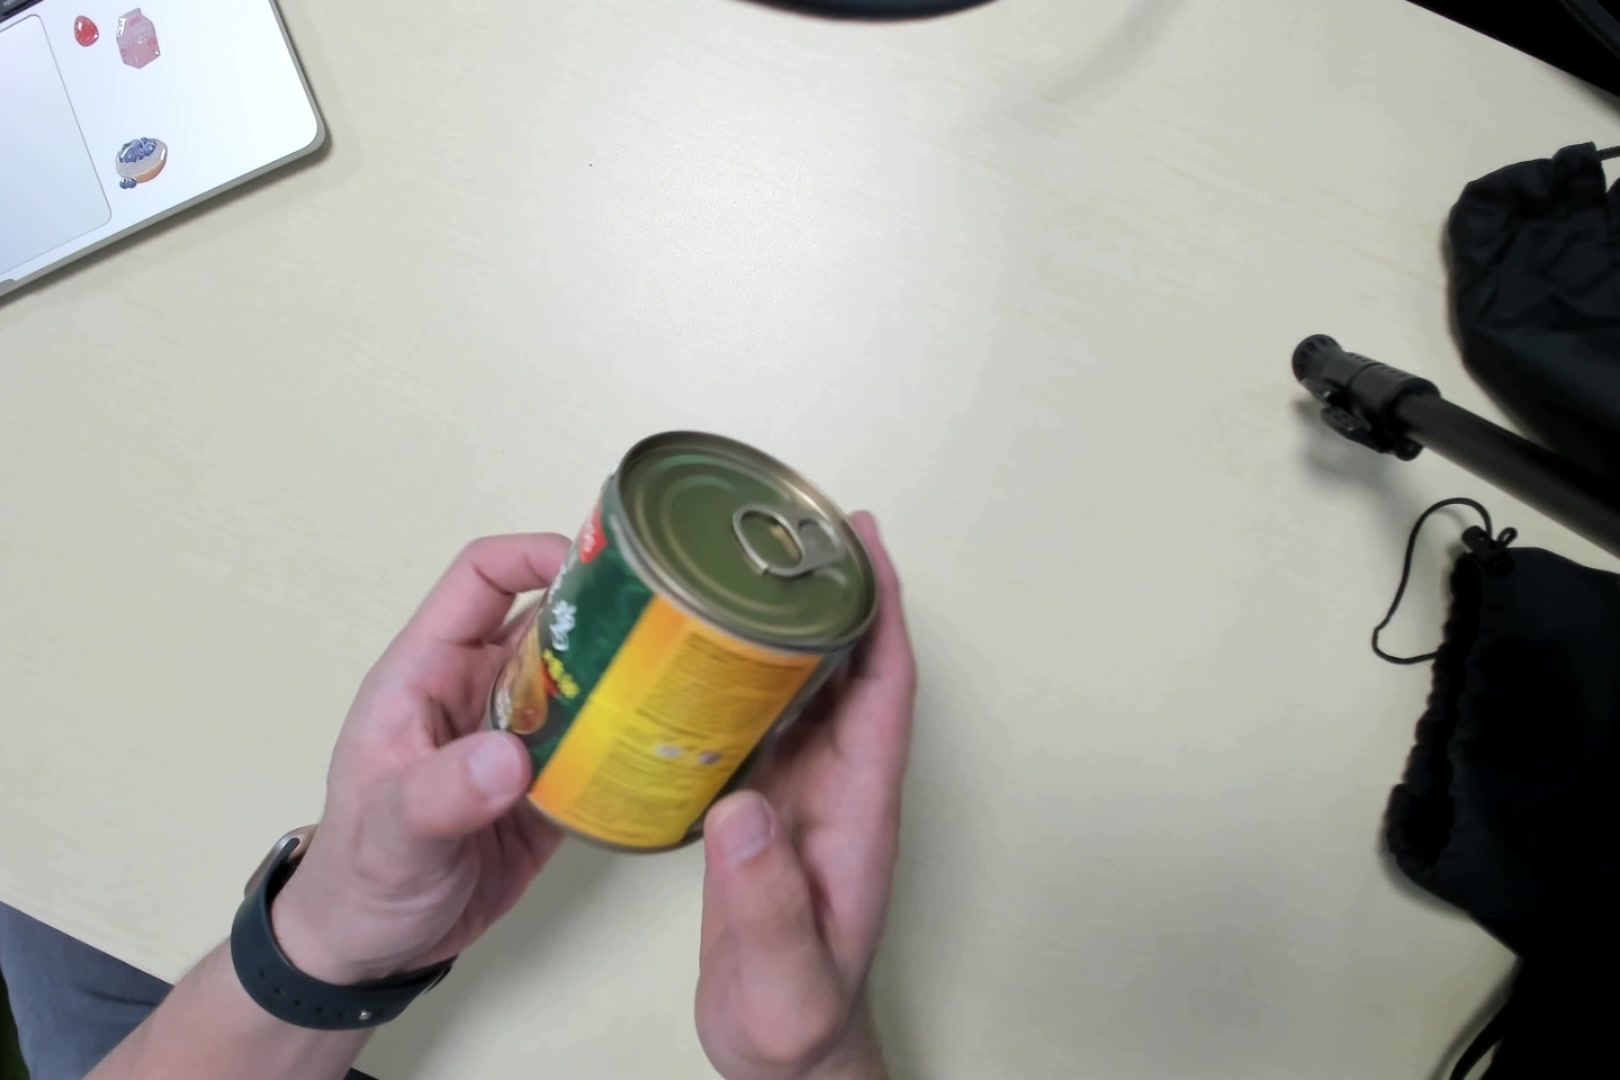CannedChicken_100-199g_Halal_NonHealthy: (491, 433, 867, 844)
